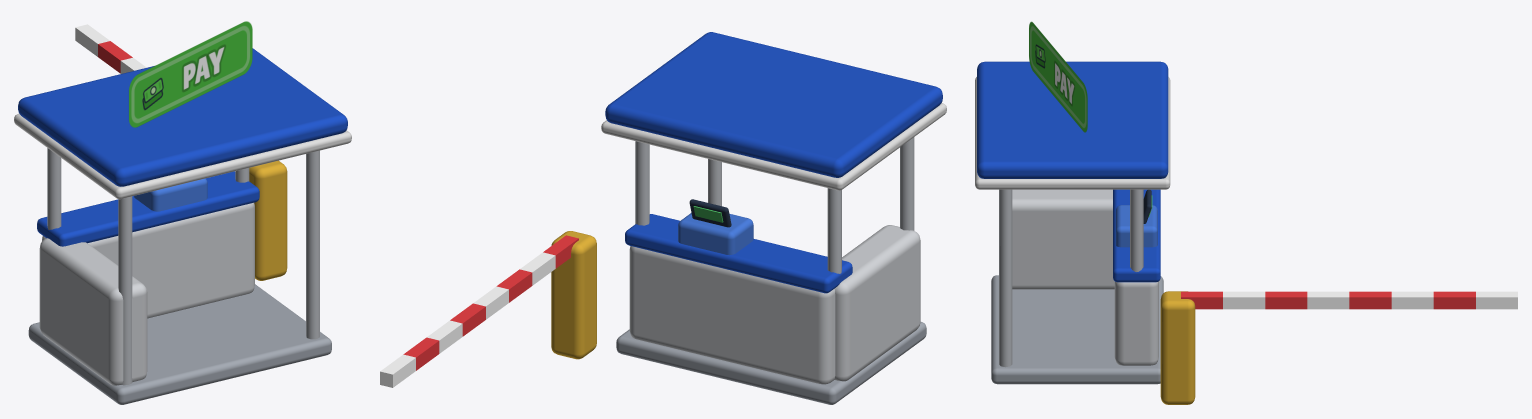
Rendered from pay_booth.glb.
The picture shows the model from 3 angles, left to right: view 1: azimuth 30°, elevation 25°; view 2: azimuth 150°, elevation 25°; view 3: azimuth 270°, elevation 25°; orthographic projection. The views are drawn at different scales.
Parts seen in each view (by area): view 1: PayBooth, Barrier; view 2: PayBooth, Barrier; view 3: PayBooth, Barrier.
Part boxes in pixels (x1,y1,x2,y2): PayBooth: (14,21,351,404); Barrier: (75,24,146,73); PayBooth: (551,32,946,404); Barrier: (380,235,578,387); PayBooth: (975,21,1195,404); Barrier: (1181,291,1517,309).
Size of the model in its own units: 3.05 by 3.31 by 5.67.
Materials: 3 (1 with a texture image).
